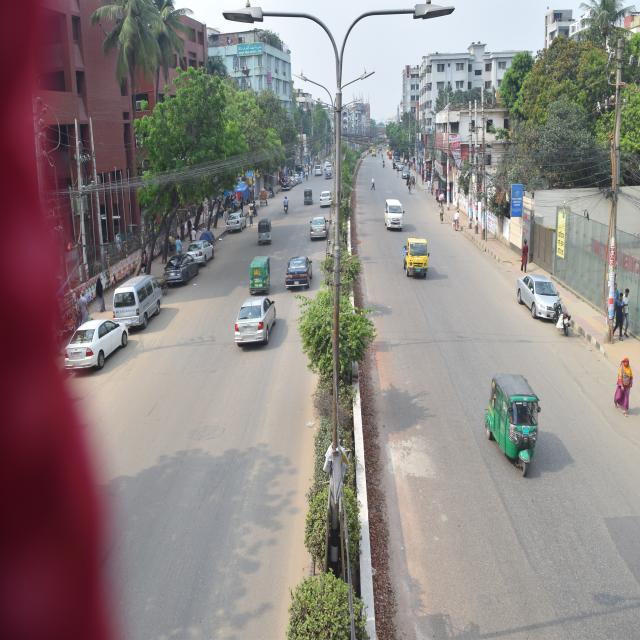car: (56, 316, 130, 378), (232, 289, 278, 350), (516, 273, 566, 325), (162, 245, 206, 296), (181, 233, 220, 266), (283, 254, 314, 295), (223, 204, 249, 239), (307, 210, 327, 242), (317, 184, 333, 207)
microbus: (108, 262, 165, 337), (382, 190, 408, 237), (315, 160, 324, 178), (164, 333, 172, 336)
motorbike: (551, 293, 572, 339), (279, 199, 291, 216), (268, 189, 277, 201)
pickup-van: (395, 232, 443, 294)
